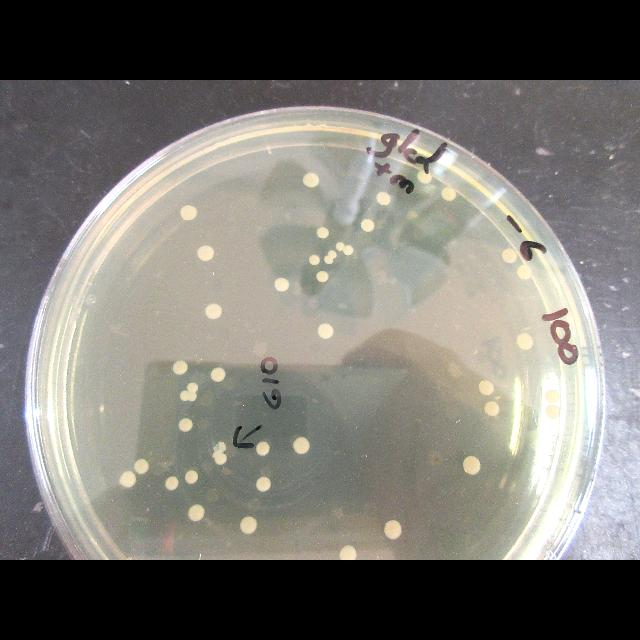colony: (462, 456, 481, 475), (384, 520, 402, 540), (240, 516, 258, 535), (292, 436, 310, 455), (180, 382, 198, 401), (516, 332, 534, 350), (188, 504, 205, 521), (119, 471, 136, 488), (198, 245, 215, 261), (302, 172, 319, 188), (180, 205, 198, 220), (339, 545, 356, 560), (205, 304, 222, 319), (134, 459, 149, 475), (172, 360, 188, 375), (318, 324, 334, 339), (484, 401, 500, 416), (516, 265, 532, 280), (502, 249, 518, 264), (256, 476, 271, 491), (479, 380, 494, 395), (545, 404, 560, 419), (212, 451, 228, 465), (256, 441, 270, 456), (210, 368, 225, 382), (376, 191, 391, 205), (185, 470, 199, 484), (165, 476, 179, 490), (418, 170, 432, 184), (274, 278, 289, 291), (441, 188, 456, 201), (179, 418, 192, 432), (545, 389, 559, 402), (361, 219, 375, 232), (316, 228, 329, 239), (316, 271, 329, 282), (214, 441, 226, 452), (342, 245, 354, 255), (309, 255, 320, 265), (335, 241, 345, 251), (328, 250, 338, 259), (324, 255, 334, 264)
